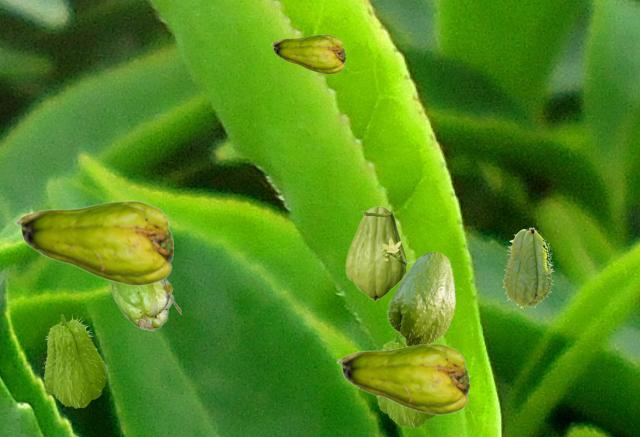sayote: (14, 200, 172, 285), (336, 343, 468, 414), (386, 251, 455, 345), (345, 206, 412, 300), (42, 313, 107, 407), (376, 330, 436, 427), (502, 227, 553, 308), (108, 279, 180, 330), (270, 34, 344, 73)
